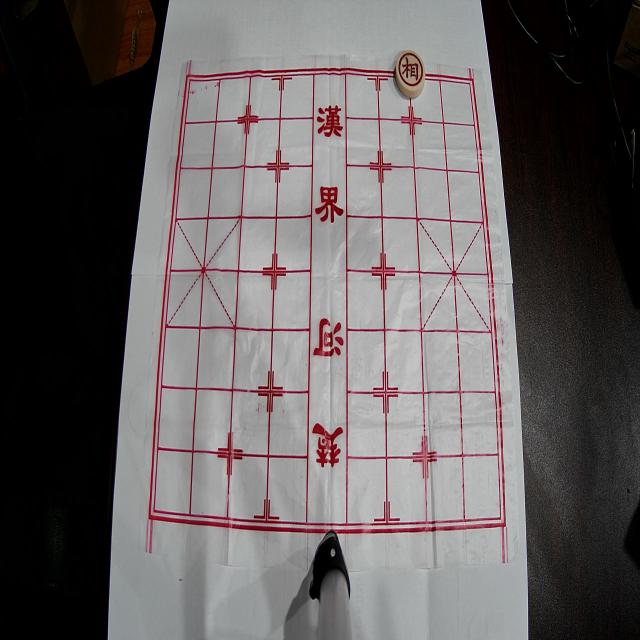red-elephant: (396, 50, 426, 98)
